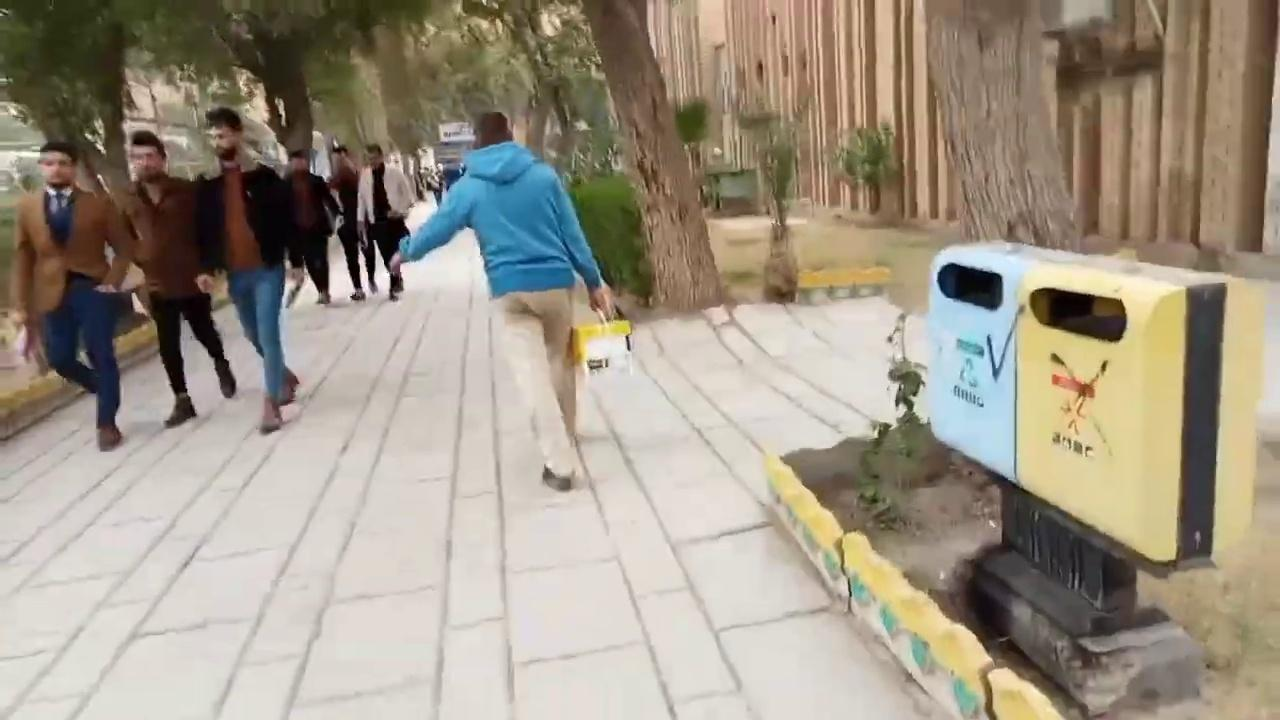person: (389, 110, 616, 491), (9, 140, 136, 451), (192, 105, 302, 434), (115, 129, 236, 428), (355, 143, 415, 301), (281, 149, 341, 307), (326, 143, 367, 300)
tree: (2, 0, 727, 313), (0, 0, 235, 244), (213, 0, 374, 301), (574, 0, 727, 312), (922, 0, 1080, 251), (213, 0, 431, 174), (452, 0, 611, 183), (735, 91, 816, 303), (832, 120, 902, 215), (673, 95, 711, 200)
